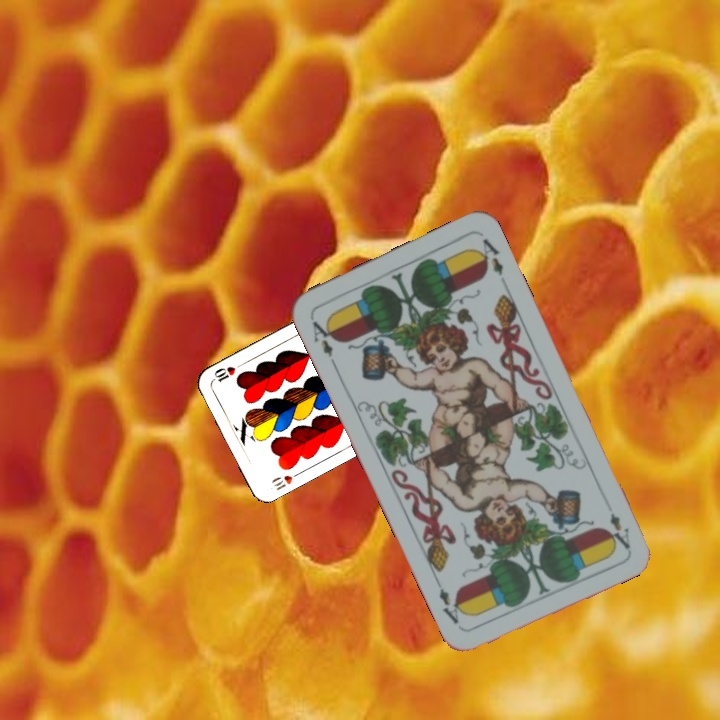EA: (307, 314, 340, 370), (604, 508, 633, 552)
H10: (267, 468, 304, 493)
